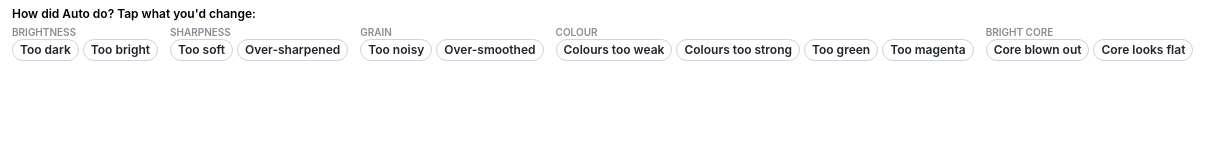
AutoFeedback — the note after a tap › still offers Reset after the FIRST tap, while the measured note is in flight
Click the button "Too dark". click: coordinates (45, 50)
box: left=12, top=39, right=79, bottom=61
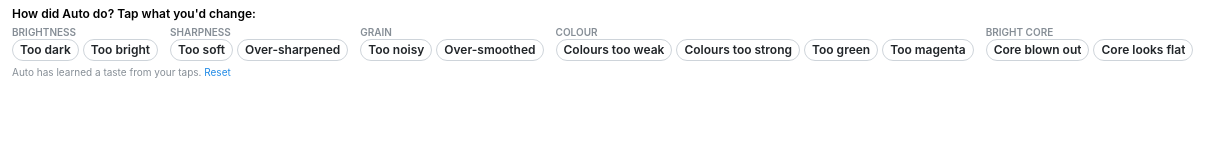
Expected: the button "Reset" is shown, left=204, top=67, right=231, bottom=77
Expected: the text "Auto has learned a taste from your taps." is shown, left=12, top=66, right=201, bottom=78
